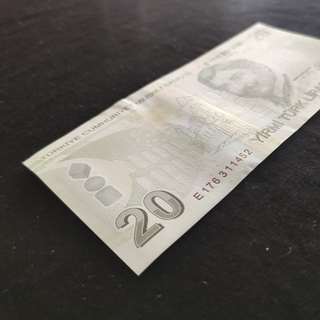20TLBack: (21, 20, 320, 276)
